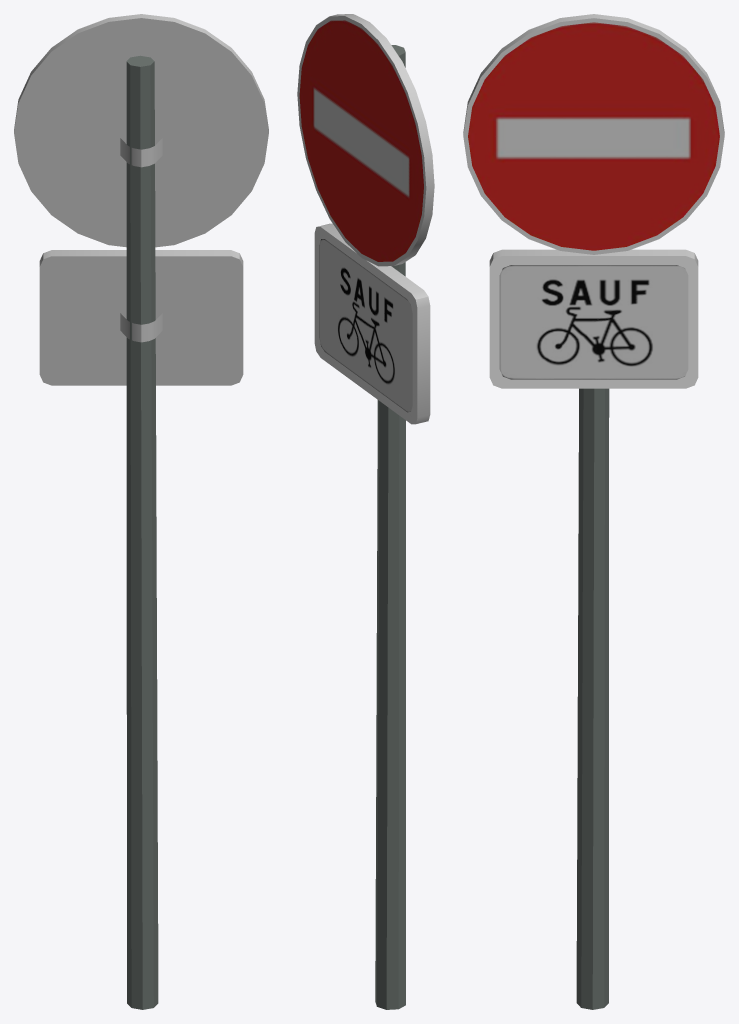
File: SM_MetalPole_03.fbx
3 views of the same model, side by side, from view 1: azimuth 90°, elevation 25°; view 2: azimuth 210°, elevation 25°; view 3: azimuth 270°, elevation 25° (orthographic). The views are drawn at different scales.
Parts seen in each view (by area): view 1: SM_MetalPole_03; view 2: SM_MetalPole_03; view 3: SM_MetalPole_03.
Part boxes in pixels (box(x1,y1,x2,y2)): SM_MetalPole_03: box(14, 14, 268, 1009); SM_MetalPole_03: box(297, 14, 434, 1009); SM_MetalPole_03: box(463, 14, 724, 1009).
Size of the model in its own units: 0.1237 by 2.69 by 0.6376.
